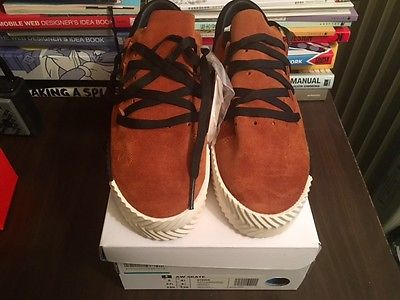adidas AW Skate Sand: (206, 1, 317, 240), (107, 1, 212, 242)
